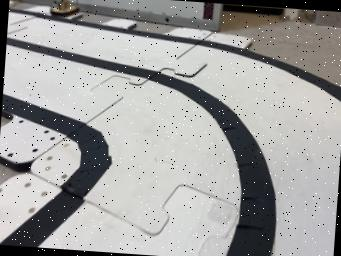street: (0, 8, 341, 256), (0, 8, 341, 256), (0, 8, 341, 256)
